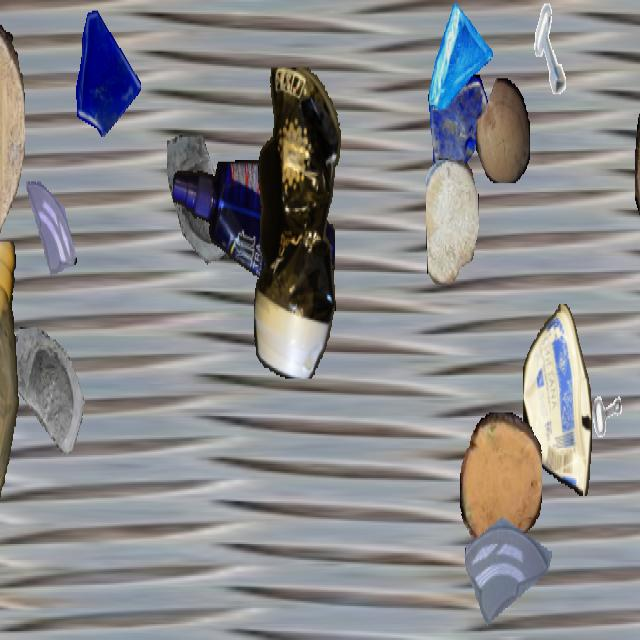glass: (165, 135, 251, 288), (465, 486, 551, 638), (13, 323, 97, 473), (67, 2, 143, 137), (426, 75, 492, 192), (427, 2, 493, 119), (21, 180, 79, 282)
metal: (573, 343, 631, 446), (526, 2, 578, 94)
plastic: (254, 67, 342, 377), (173, 160, 335, 306), (523, 304, 591, 496), (0, 242, 21, 558)
wood: (460, 413, 542, 551), (426, 158, 478, 283), (0, 2, 25, 261), (476, 78, 530, 182), (635, 39, 640, 228)
